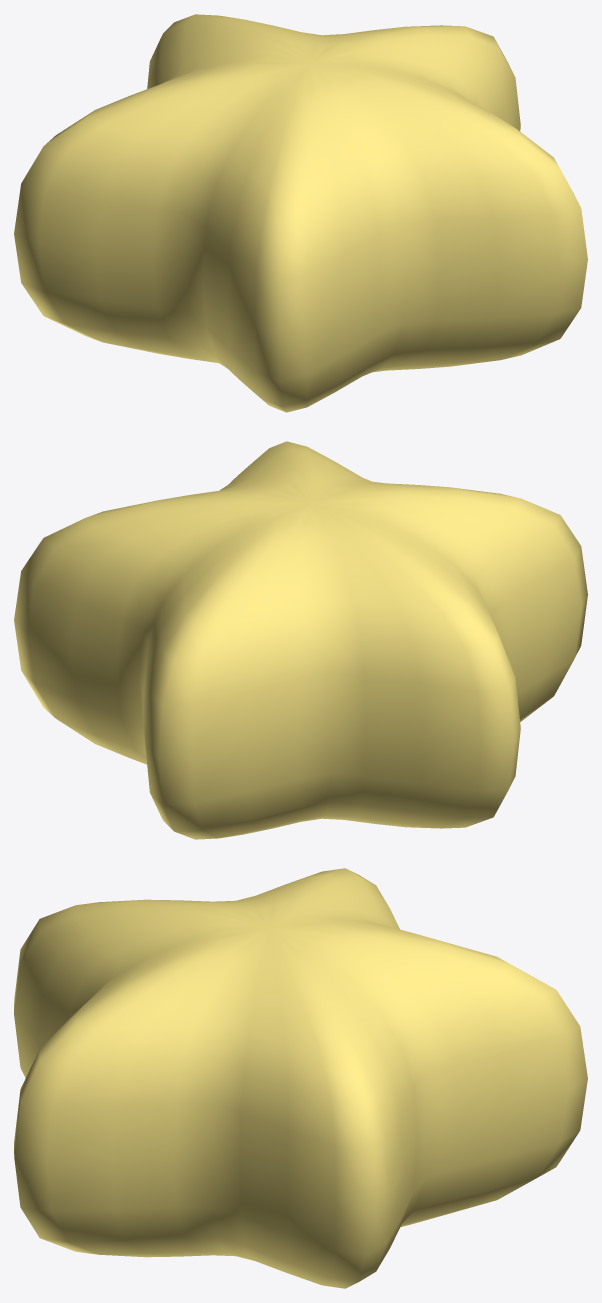
File: Mintstar_01.fbx
3 views of the same model, one above another, from view 1: azimuth 30°, elevation 25°; view 2: azimuth 150°, elevation 25°; view 3: azimuth 270°, elevation 25° (orthographic). The views are drawn at different scales.
Parts seen in each view (by area): view 1: Mintstar_01_LOD0; view 2: Mintstar_01_LOD0; view 3: Mintstar_01_LOD0.
Part boxes in pixels (bbox=[...]): Mintstar_01_LOD0: bbox=[14, 14, 587, 412]; Mintstar_01_LOD0: bbox=[14, 441, 587, 839]; Mintstar_01_LOD0: bbox=[14, 868, 587, 1288].
Size of what is drawn, in the model's own units: 447 by 246 by 426.
